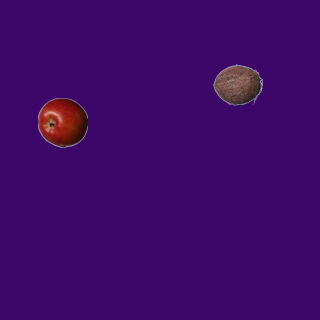Apple Braeburn: (37, 97, 87, 147)
Cocos: (212, 59, 262, 109)
